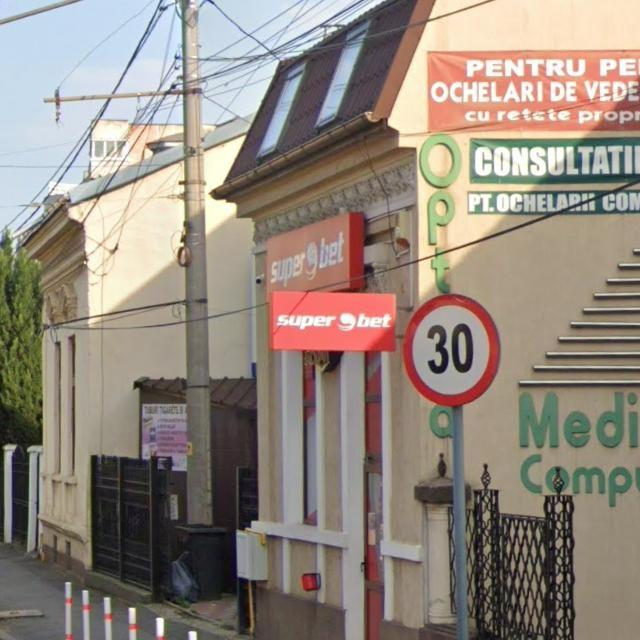forb_speed_over_30: (404, 294, 503, 408)
